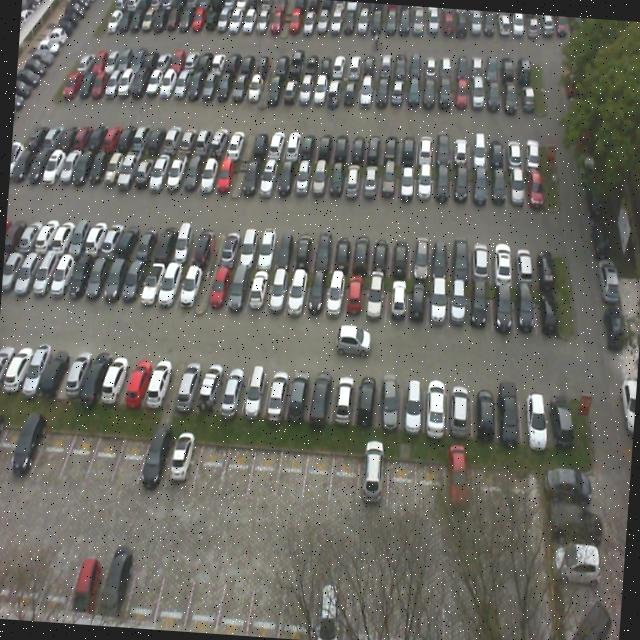empty: (82, 428, 124, 488), (111, 428, 150, 490), (58, 428, 98, 486), (31, 424, 70, 482), (218, 444, 256, 500), (192, 440, 230, 493), (248, 443, 283, 498), (301, 450, 334, 508), (276, 446, 306, 504)
occupied: (136, 431, 174, 490), (493, 384, 526, 446), (164, 435, 202, 488), (540, 385, 574, 444), (217, 362, 252, 419), (9, 424, 46, 475), (57, 349, 90, 404), (470, 382, 500, 441), (518, 384, 548, 443), (222, 264, 254, 319), (118, 256, 150, 310), (99, 355, 131, 408), (422, 382, 452, 438), (446, 383, 477, 437), (76, 354, 108, 406), (262, 368, 292, 422), (137, 254, 166, 308), (307, 370, 334, 428), (121, 356, 151, 408), (240, 366, 270, 418), (354, 373, 381, 430), (154, 261, 183, 314), (262, 266, 290, 320), (197, 360, 226, 412), (532, 284, 562, 334), (142, 362, 172, 412), (400, 379, 427, 434), (175, 261, 202, 315), (376, 374, 403, 428), (284, 370, 311, 423), (102, 254, 129, 306), (329, 373, 356, 425), (488, 237, 516, 287), (242, 268, 268, 320), (488, 284, 516, 332), (175, 363, 203, 410), (448, 233, 474, 282), (206, 264, 228, 320), (117, 222, 147, 262), (304, 273, 328, 323), (532, 242, 558, 288), (134, 222, 162, 264), (152, 223, 179, 266), (323, 276, 347, 324), (364, 278, 388, 326), (469, 284, 493, 332), (511, 240, 536, 286), (511, 288, 536, 334), (164, 152, 190, 196), (196, 153, 222, 197), (410, 230, 433, 278), (469, 238, 493, 284), (406, 279, 429, 327), (427, 282, 450, 330), (430, 234, 452, 284), (284, 272, 306, 322), (447, 284, 472, 328), (148, 150, 174, 192), (522, 168, 548, 210), (172, 227, 200, 266), (386, 235, 412, 277), (192, 228, 218, 269), (182, 153, 206, 197), (385, 279, 407, 327), (240, 156, 264, 198), (292, 230, 316, 272), (214, 157, 238, 198), (349, 232, 371, 276), (234, 230, 258, 270), (256, 228, 280, 268), (328, 234, 352, 274), (217, 230, 242, 268), (346, 276, 366, 323), (273, 232, 297, 270), (312, 232, 334, 272), (369, 236, 391, 276), (308, 162, 329, 203), (488, 167, 509, 208), (276, 160, 296, 202), (292, 160, 312, 202), (469, 170, 491, 208), (260, 159, 280, 199), (378, 164, 398, 204), (504, 171, 526, 207), (342, 165, 362, 203), (398, 164, 417, 204), (414, 168, 434, 204), (432, 168, 452, 204), (450, 169, 470, 203), (326, 164, 344, 200), (362, 164, 379, 200)
